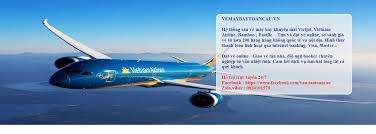maybay_dansu: (36, 21, 237, 111)
